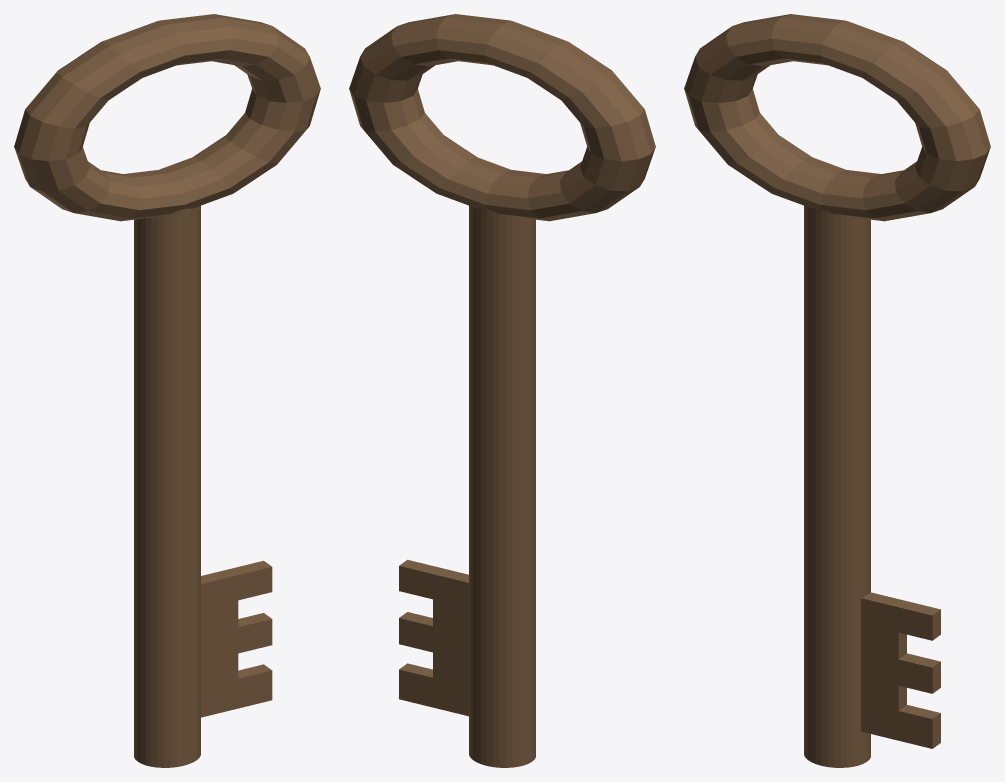
The model's file is OldKey.fbx.
The picture shows the model from 3 angles, left to right: view 1: azimuth 30°, elevation 25°; view 2: azimuth 150°, elevation 25°; view 3: azimuth 330°, elevation 25°; orthographic projection.
Parts seen in each view (by area): view 1: Cylinder, Torus, Plane; view 2: Cylinder, Torus, Plane; view 3: Cylinder, Torus, Plane.
Part boxes in pixels (left/top/right/bottom): Cylinder: left=134, top=205, right=200, bottom=767; Torus: left=14, top=14, right=320, bottom=221; Plane: left=201, top=560, right=272, bottom=717; Cylinder: left=469, top=205, right=535, bottom=767; Torus: left=349, top=14, right=655, bottom=221; Plane: left=399, top=559, right=468, bottom=716; Cylinder: left=804, top=205, right=870, bottom=767; Torus: left=684, top=14, right=990, bottom=221; Plane: left=861, top=592, right=940, bottom=748.
Bounding box in the file's own units: 53.4 × 125 × 10.68.
